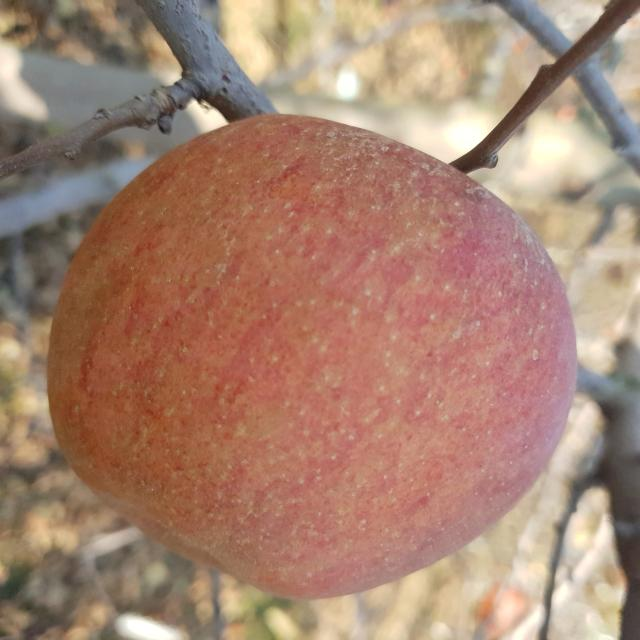fresh: (39, 108, 587, 603)
